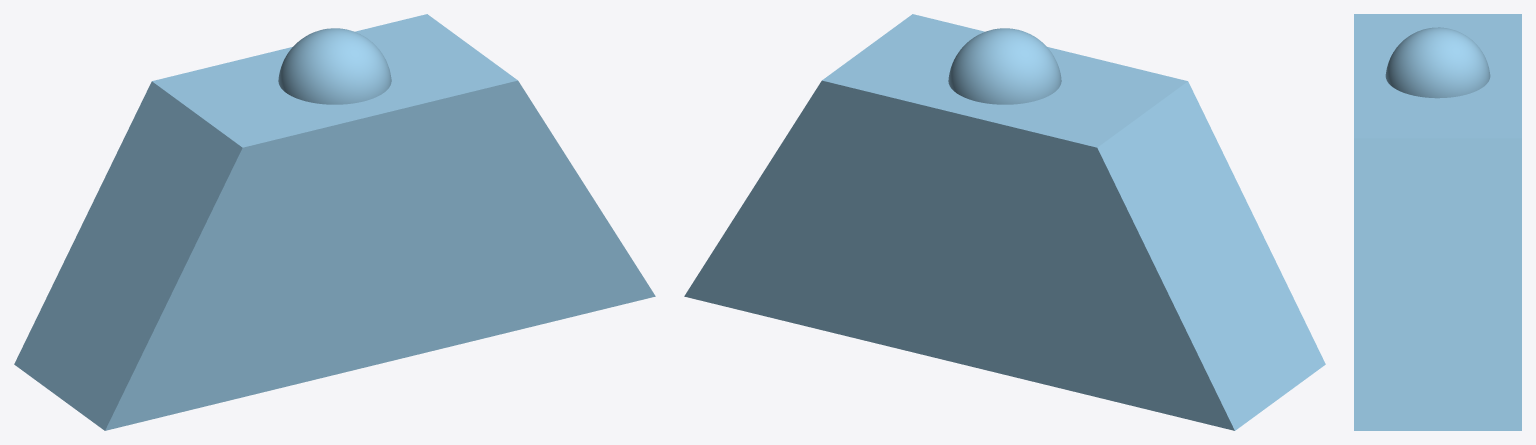
The model's file is Boss.obj.
3 renders of one model, left to right at view 1: azimuth 30°, elevation 25°; view 2: azimuth 150°, elevation 25°; view 3: azimuth 270°, elevation 25°, orthographic. The views are drawn at different scales.
Visible parts, largest first — view 1: mesh18, mesh16, mesh20, mesh21; view 2: mesh19, mesh16, mesh20, mesh21; view 3: mesh17, mesh20, mesh21.
Boxes of the visible parts, x1,y1,x2,y2 form: mesh18: [105, 80, 655, 430]; mesh16: [14, 81, 242, 430]; mesh20: [152, 14, 517, 147]; mesh21: [278, 28, 391, 104]; mesh19: [684, 80, 1234, 430]; mesh16: [1097, 81, 1325, 430]; mesh20: [822, 14, 1187, 147]; mesh21: [948, 28, 1061, 104]; mesh17: [1354, 138, 1521, 430]; mesh20: [1354, 14, 1521, 138]; mesh21: [1385, 27, 1490, 98].
Bounding box in the file's own units: 0.3556 × 0.1832 × 0.1016.
